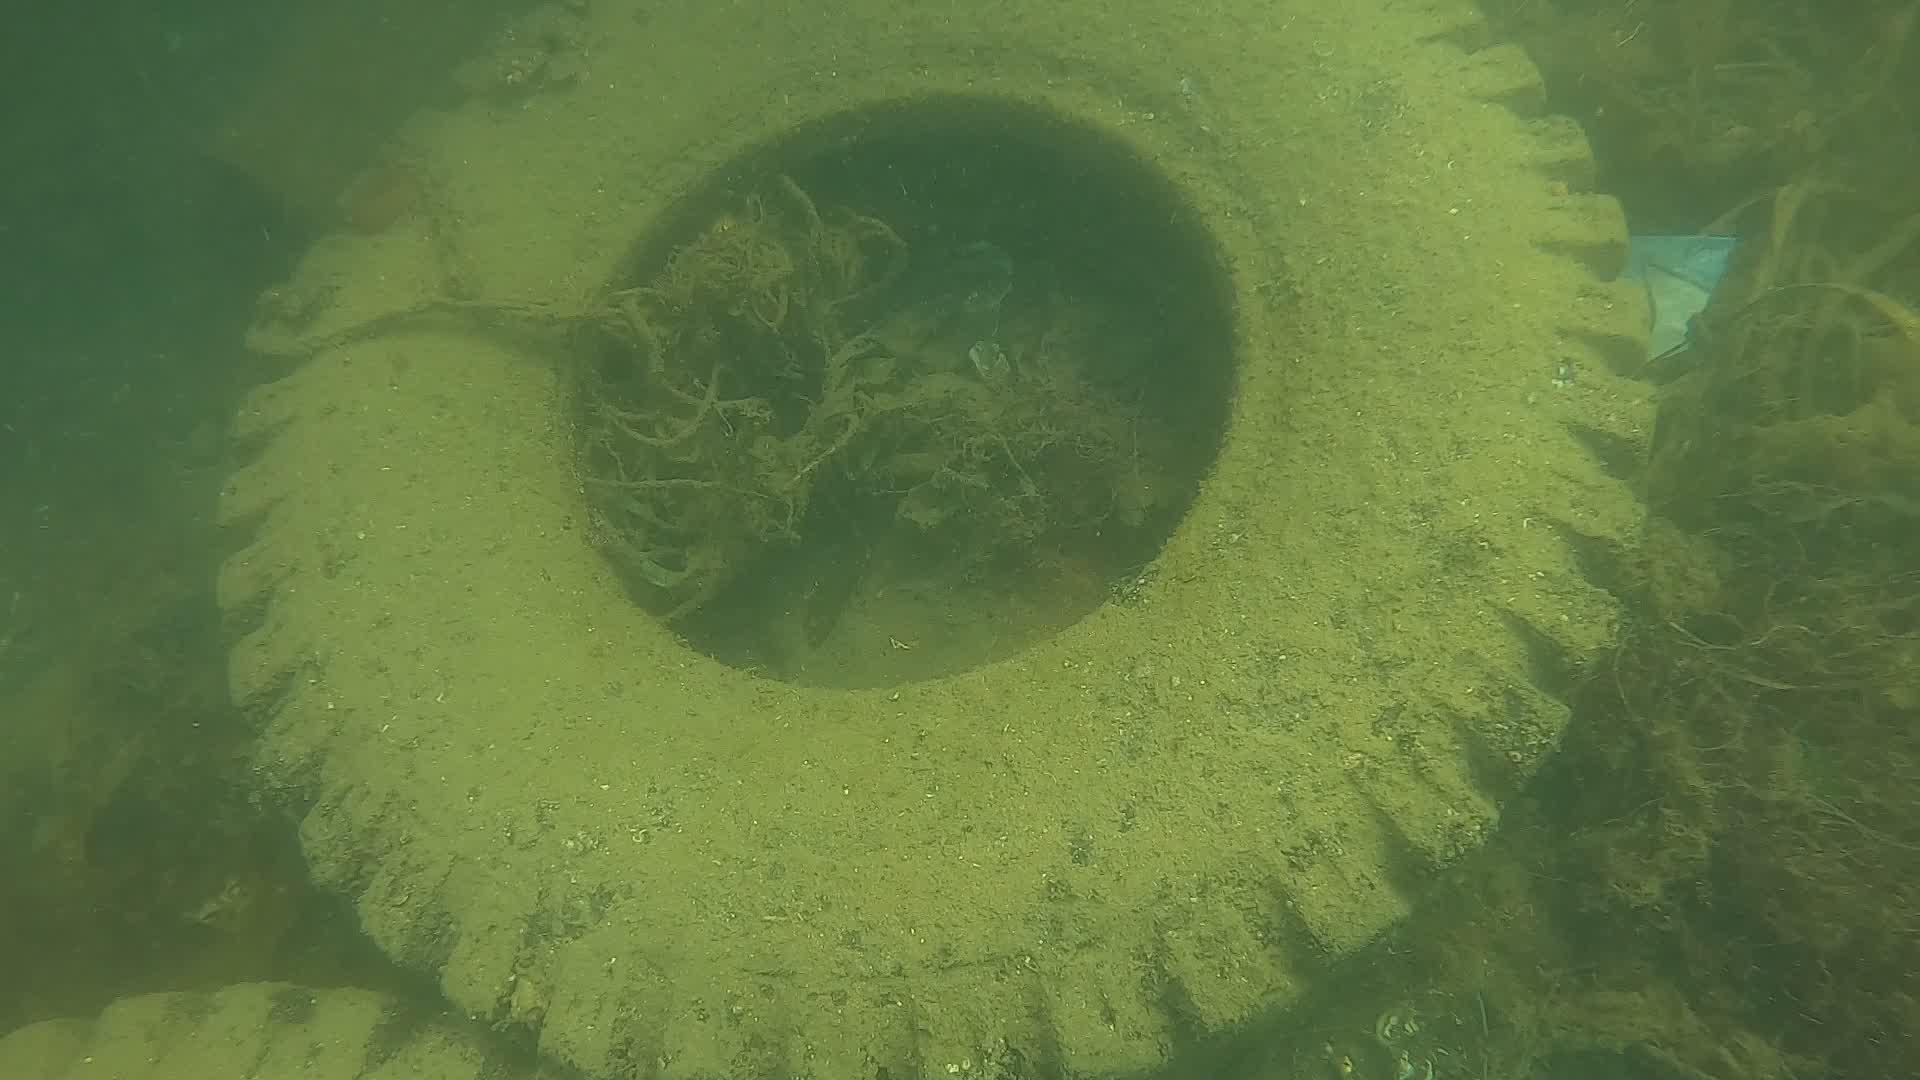tire: (215, 3, 1644, 1080)
